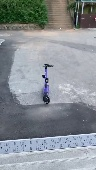beam: (39, 62, 53, 106)
